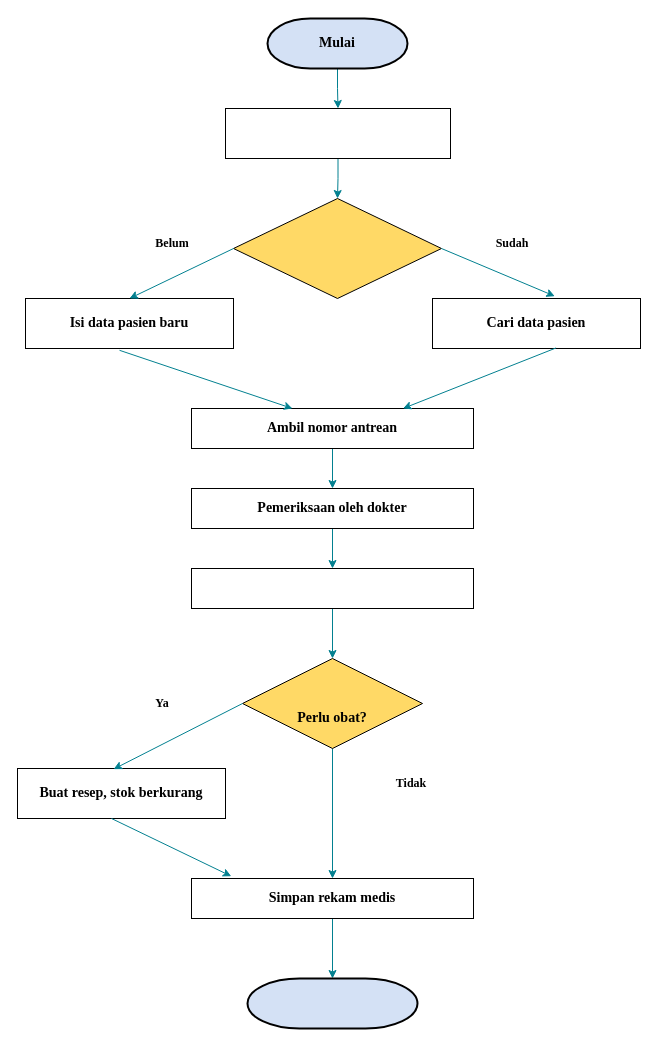
The diagram is 658 pixels wide and 1046 high, and some of its shapes have lost their labels. Here are the shapes that lost their labels. From the top down, the box of each, then its label:
(224, 108, 450, 158): Pasien datang ke puskesmas
(232, 198, 442, 298): Sudah terdaftar?
(190, 568, 474, 608): Input diagnosa dan tindakan
(246, 977, 418, 1029): Selesai
